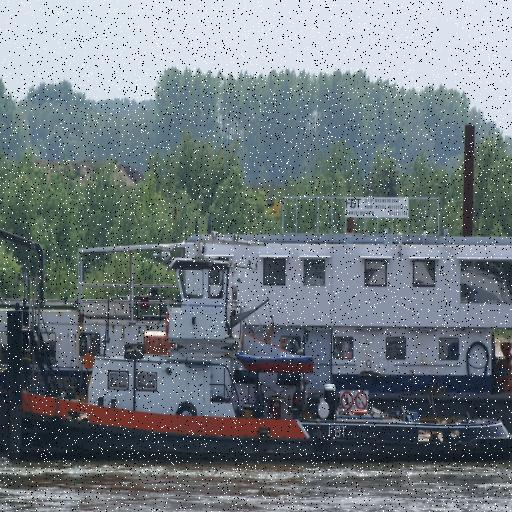tugboat: (4, 228, 512, 476)
